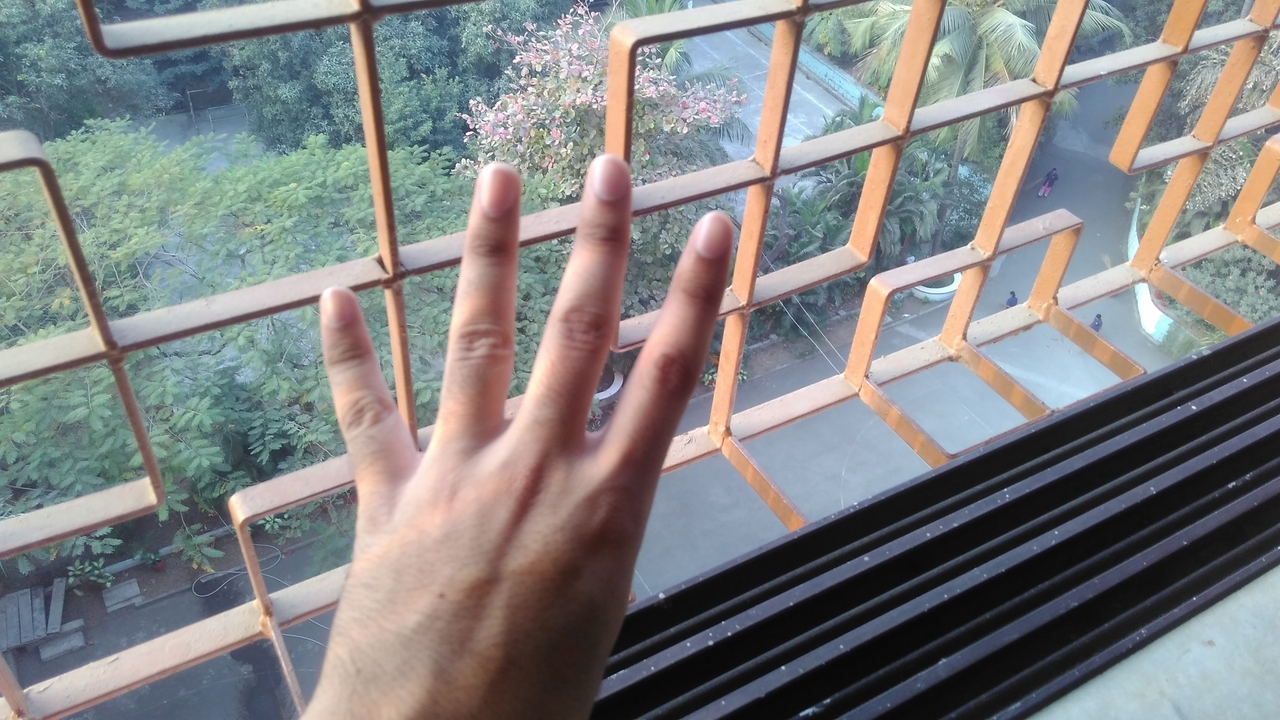fingertip: (462, 156, 522, 216), (682, 202, 738, 266), (576, 146, 632, 208), (306, 280, 360, 338)
